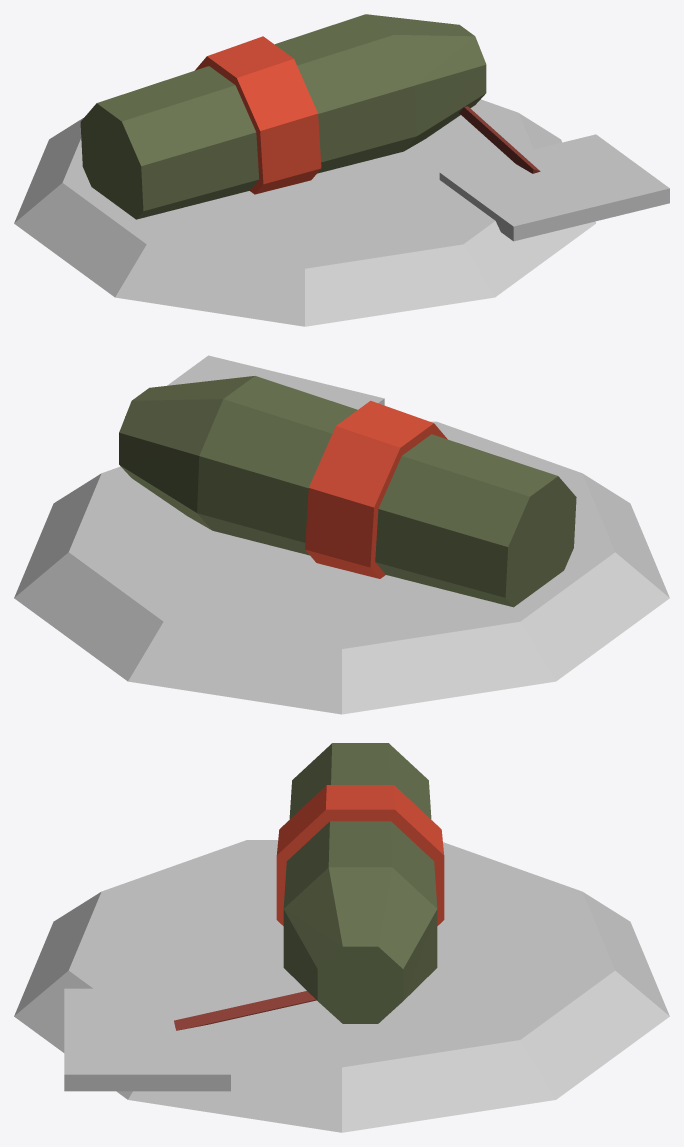
The model's file is ied_firefoam.obj.
3 views of the same model, one above another, from view 1: azimuth 30°, elevation 25°; view 2: azimuth 150°, elevation 25°; view 3: azimuth 270°, elevation 25° (orthographic). The views are drawn at different scales.
Visible parts, largest first — view 1: ied_firefoam; view 2: ied_firefoam; view 3: ied_firefoam.
Boxes of the visible parts, box(x1,y1,x2,y2) form: ied_firefoam: box(14, 14, 669, 326); ied_firefoam: box(14, 355, 669, 714); ied_firefoam: box(14, 743, 669, 1132).
Bounding box in the file's own units: 0.6983 × 0.2054 × 0.709.
